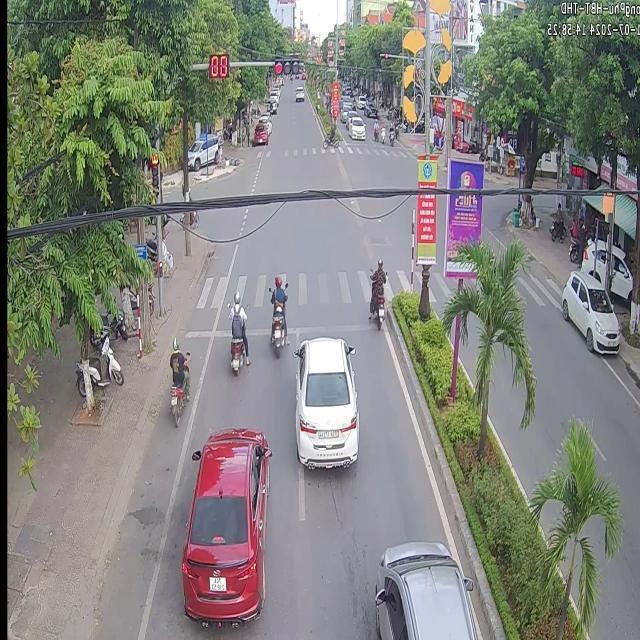car: (177, 438, 268, 636), (373, 540, 476, 638), (292, 336, 357, 467)
motobike: (168, 325, 192, 436), (225, 290, 246, 385), (270, 267, 289, 361), (367, 259, 386, 342)
red_light: (270, 51, 301, 76), (148, 154, 158, 187)
stop_line: (182, 321, 383, 336)
